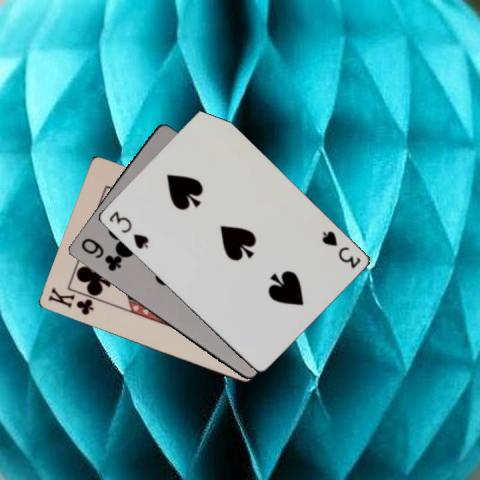3s: (106, 208, 150, 250), (318, 228, 361, 270)
9c: (77, 234, 123, 272)
Kc: (45, 284, 95, 317)
